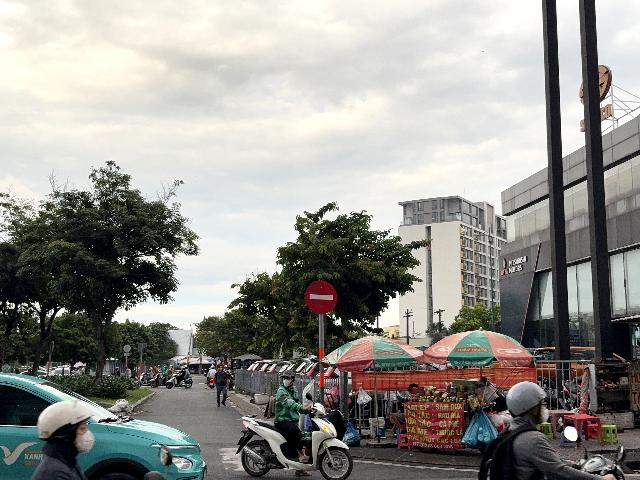cam-di-nguoc-chieu: (305, 281, 337, 315)
